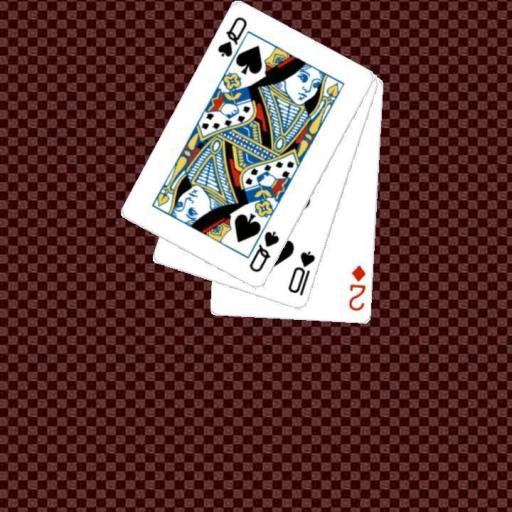card-corner: (246, 228, 281, 274), (285, 248, 317, 298), (214, 14, 249, 59), (346, 262, 368, 313)
